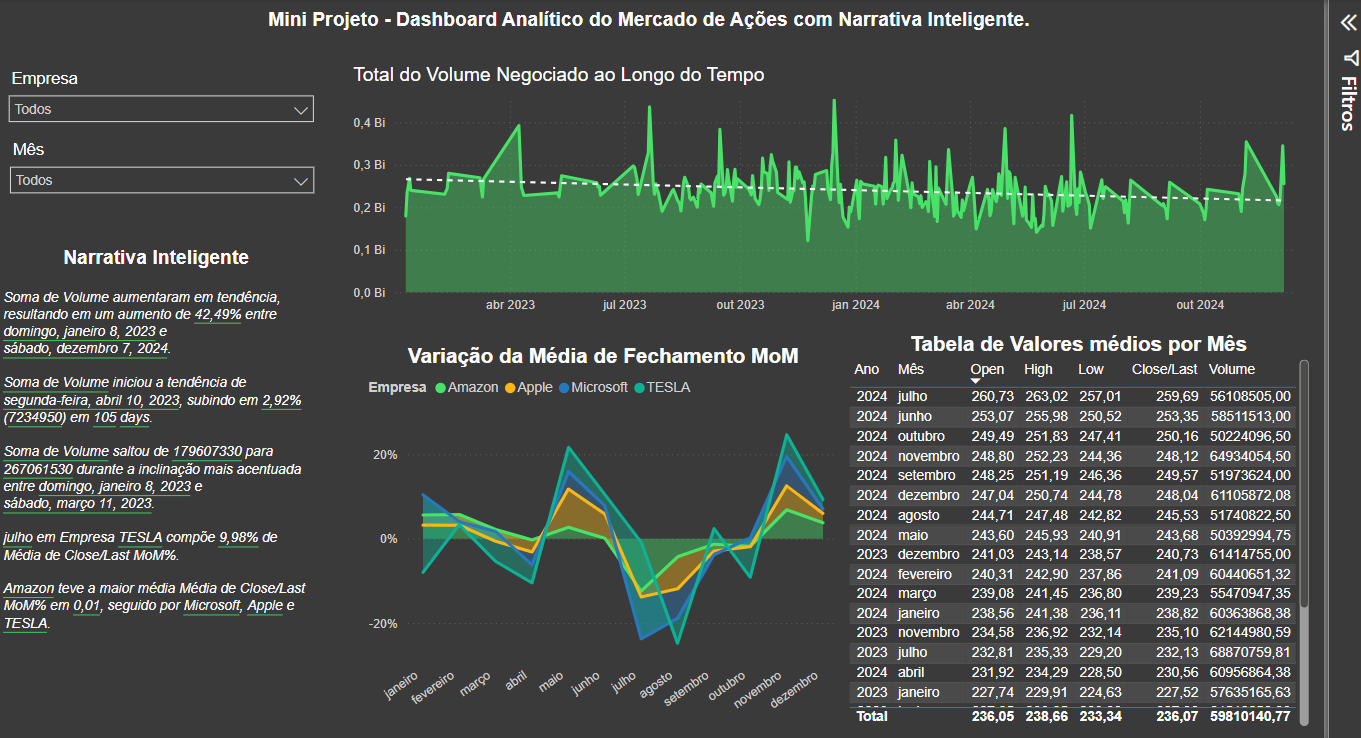

The dashboard page shown, as its layout file describes it:
{"tool":"powerbi","page":{"name":"Dash","canvas":[1280,720],"ordinal":0},"visuals":[{"type":"areaChart","title":"Total do Volume Negociado ao Longo do Tempo","fields":{"Category":["HistoricalData_1721415659693 (2).Date.Variation.Hierarquia de datas.Ano","HistoricalData_1721415659693 (2).Date.Variation.Hierarquia de datas.Trimestre","HistoricalData_1721415659693 (2).Date.Variation.Hierarquia de datas.Mês","HistoricalData_1721415659693 (2).Date.Variation.Hierarquia de datas.Dia"],"Y":["Sum(HistoricalData_1721415659693 (2).Volume)"]},"box":[337.8,62.7,932.6,248.5],"z":0},{"type":"tableEx","title":"Tabela de Valores médios  por Mês","fields":{"Values":["HistoricalData_1721415659693 (2).Date.Variation.Hierarquia de datas.Ano","HistoricalData_1721415659693 (2).Date.Variation.Hierarquia de datas.Mês","Avg(HistoricalData_1721415659693 (2).Open)","Avg(HistoricalData_1721415659693 (2).High)","Avg(HistoricalData_1721415659693 (2).Low)","Avg(HistoricalData_1721415659693 (2).Close/Last)","Avg(HistoricalData_1721415659693 (2).Volume)"]},"box":[815.6,320.9,454.8,386.1],"z":1000},{"type":"slicer","fields":{"Values":["HistoricalData_1721415659693 (2).Empresa"]},"box":[0,62.7,314.9,68.8],"z":2000},{"type":"stackedAreaChart","title":"Variação da Média de Fechamento MoM","fields":{"Category":["HistoricalData_1721415659693 (2).Date.Variation.Hierarquia de datas.Mês"],"Series":["HistoricalData_1721415659693 (2).Empresa"],"Y":["HistoricalData_1721415659693 (2).Média de Close/Last MoM%"]},"box":[352.3,333,463.3,374],"z":3000},{"type":"slicer","fields":{"Values":["HistoricalData_1721415659693 (2).Date.Variation.Hierarquia de datas.Mês"]},"box":[1.2,131.5,313.7,80.8],"z":4000},{"type":"textbox","box":[255.8,4.8,842.1,37.4],"z":5000},{"type":"textbox","title":"Narrativa Inteligente","box":[0,238.9,305.2,468.1],"z":5001}]}

Visuals, with their boxes on the page's 1280x720 design canvas (x1, y1, x2, y2). These are canvas units, not pixel positions in the 1361x738 screenshot, which may show the page scaled, cropped or inside an application window:
"Total do Volume Negociado ao Longo do Tempo" areaChart: BBox(338, 63, 1270, 311)
"Tabela de Valores médios  por Mês" tableEx: BBox(816, 321, 1270, 707)
slicer - HistoricalData_1721415659693 (2).Empresa: BBox(0, 63, 315, 132)
"Variação da Média de Fechamento MoM" stackedAreaChart: BBox(352, 333, 816, 707)
slicer - HistoricalData_1721415659693 (2).Date.Variation.Hierarquia de datas.Mês: BBox(1, 132, 315, 212)
textbox: BBox(256, 5, 1098, 42)
"Narrativa Inteligente" textbox: BBox(0, 239, 305, 707)
